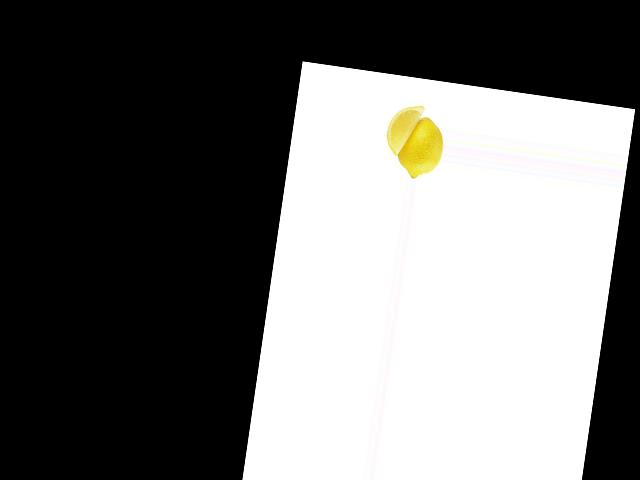lemon: (393, 110, 447, 183)
